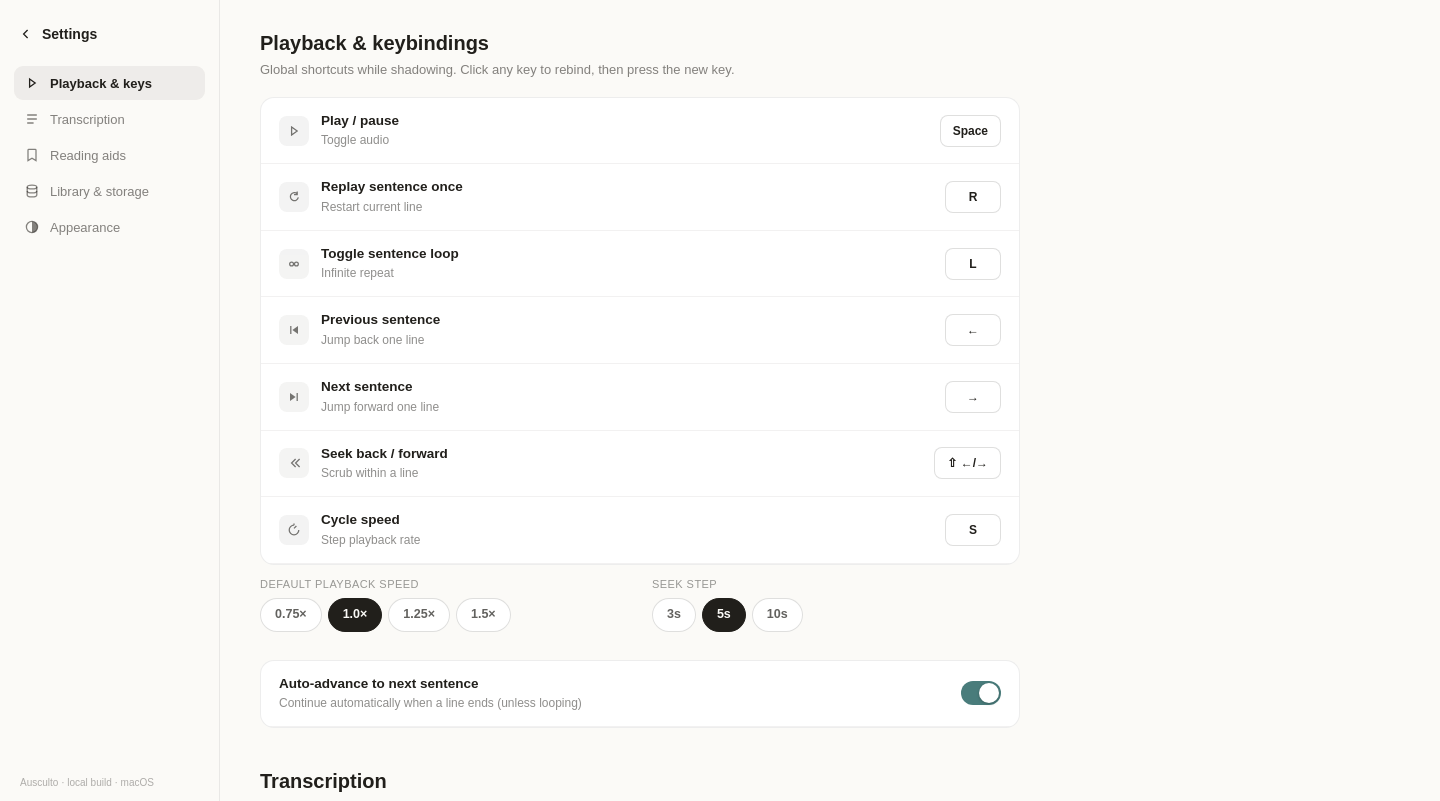
Test case: Settings › captures a rebind for a keybinding badge and persists it
The width and height of the screenshot is (1440, 801).
Expected: the heading "Playback & keybindings" is shown, [260,32,489,54]
Click the button "Space": (970, 131) [940,115,1001,147]
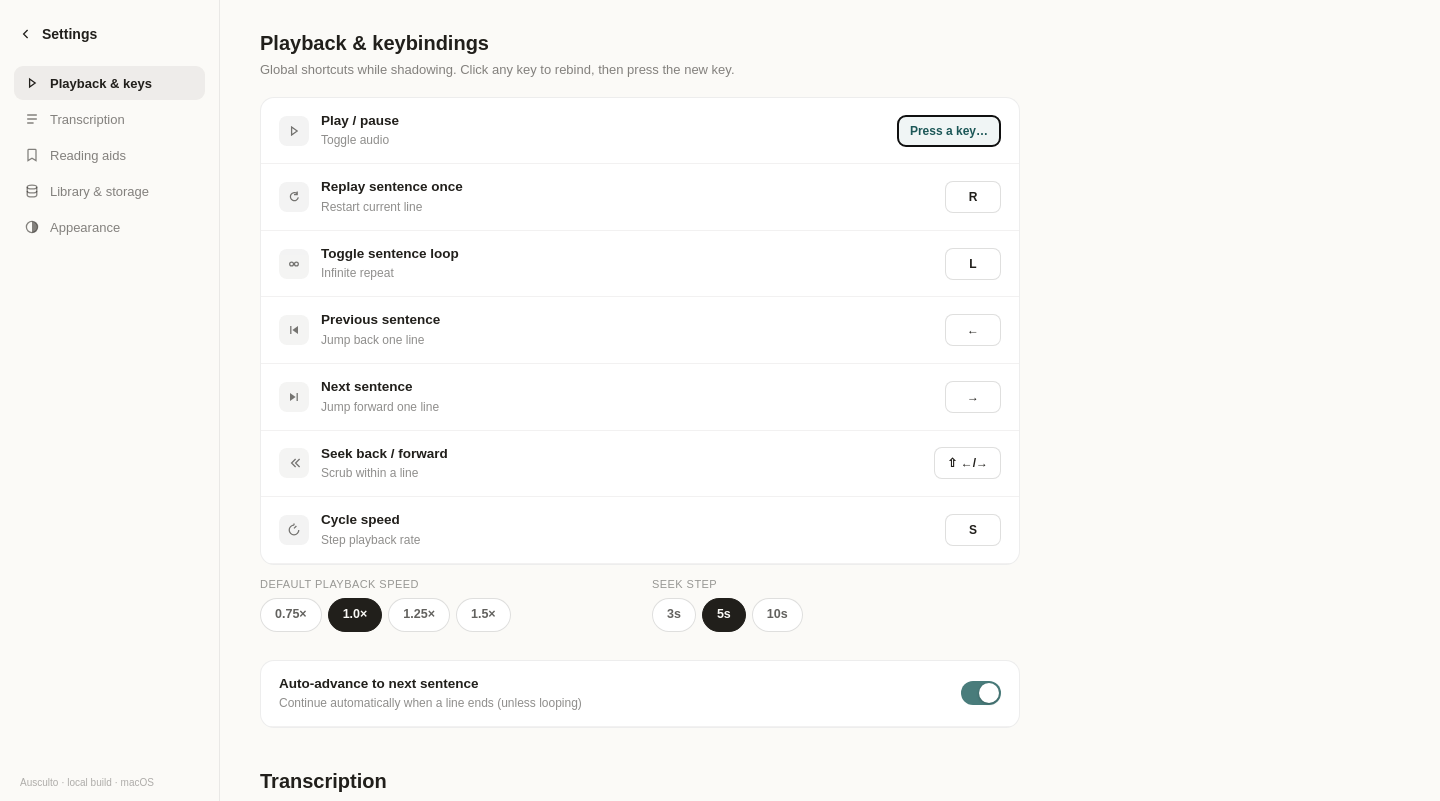
Now the button named "Space" reads "Press a key…", box [897,115,1001,147]
Press p
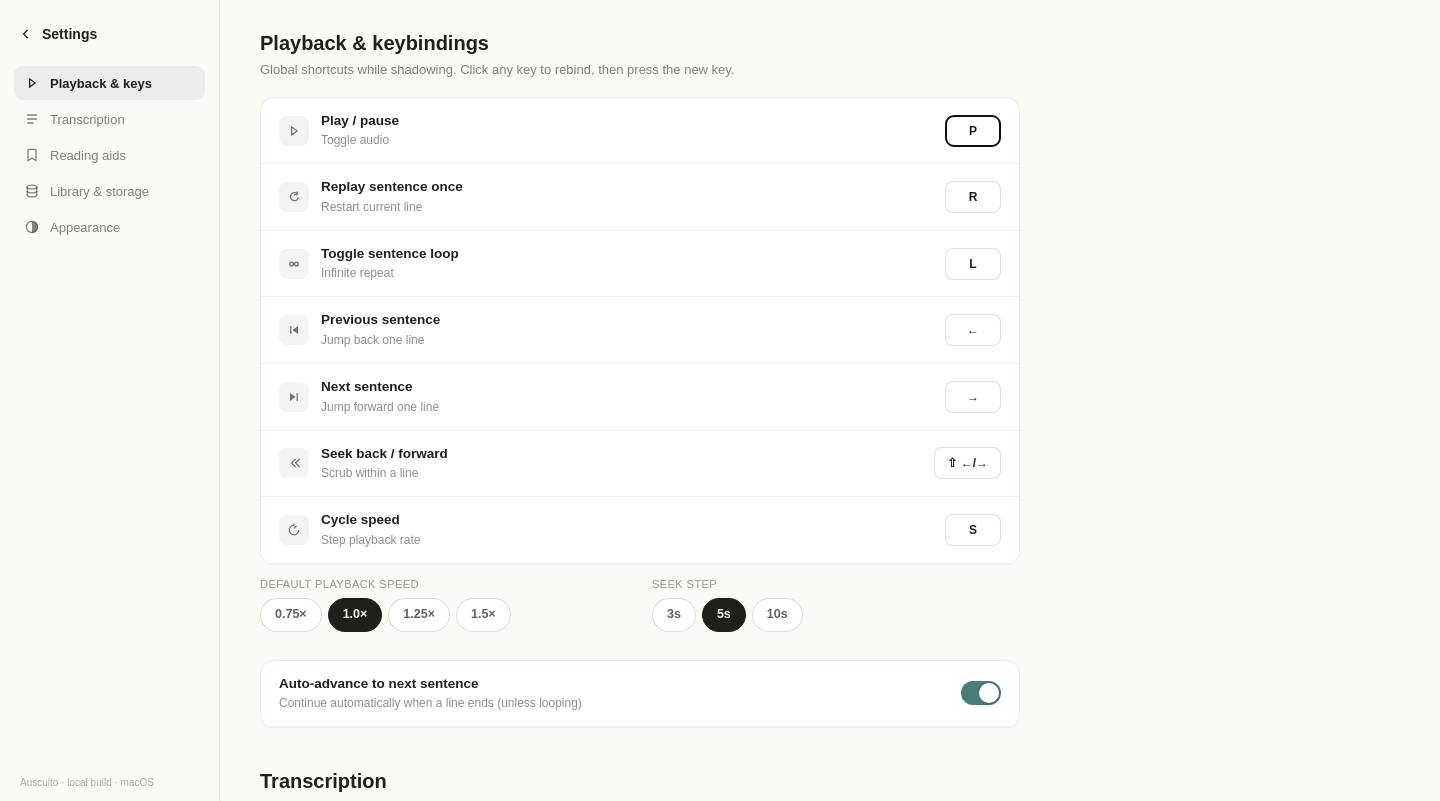
Now the button named "Space" reads "P", box [945,115,1001,147]
